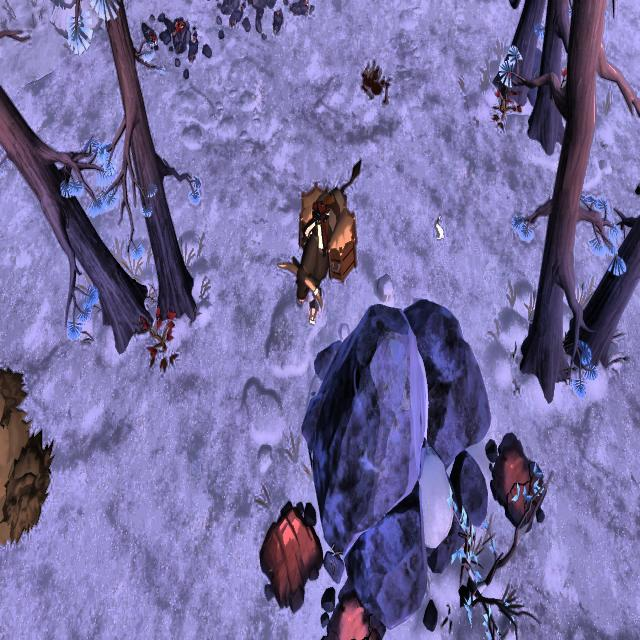rock_t5: (262, 504, 323, 608)
